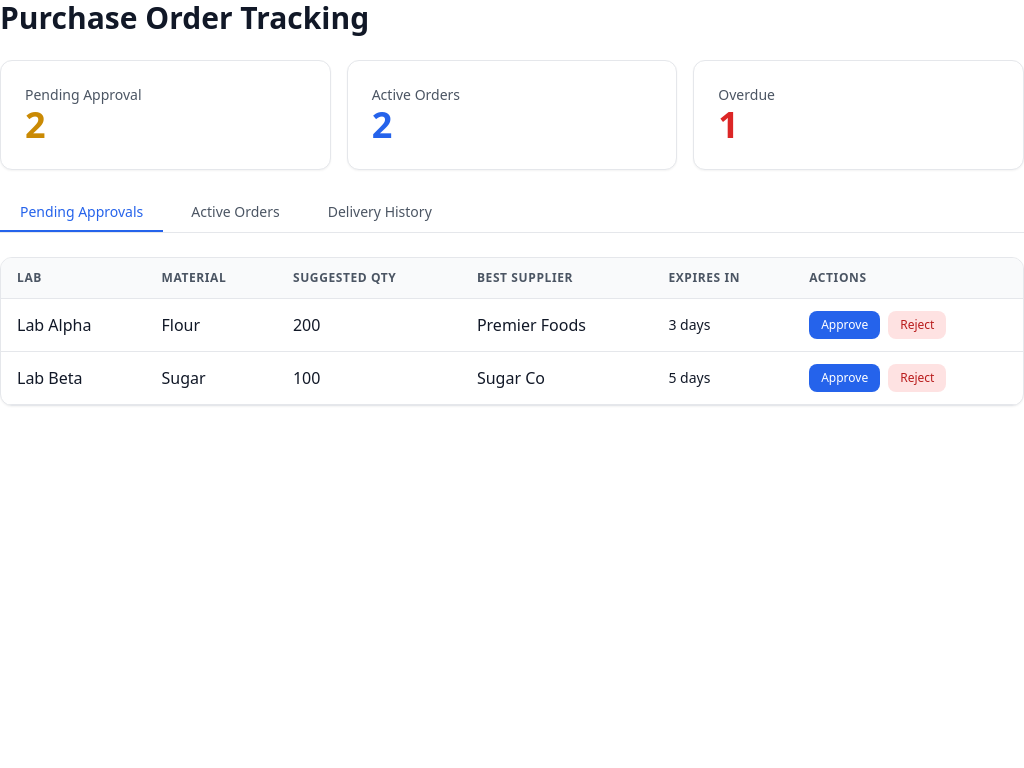
Scenario: POTrackingPage — 3-tab architecture › opens approve modal when Approve button is clicked
Click the button "Approve" in the row of "Lab Alpha".
click(845, 325)  # box [809, 311, 880, 339]
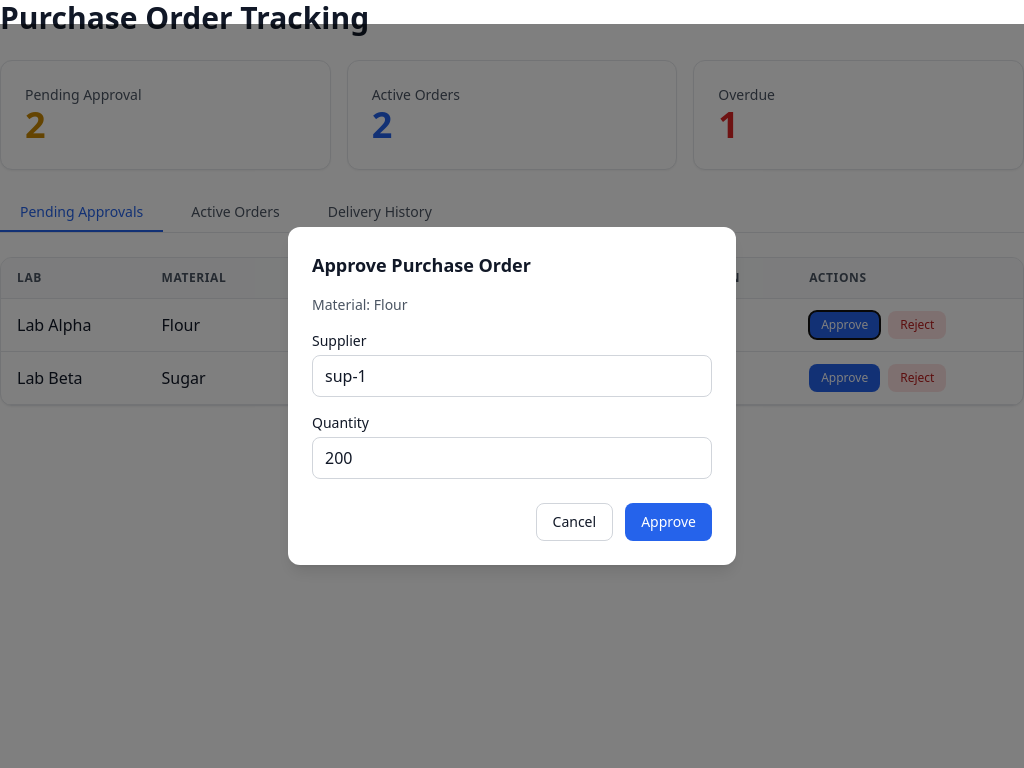
expect the dialog "Approve Purchase Order" is shown: met
expect the number field labelled "Quantity" holds "200": met, box [312, 437, 712, 479]
